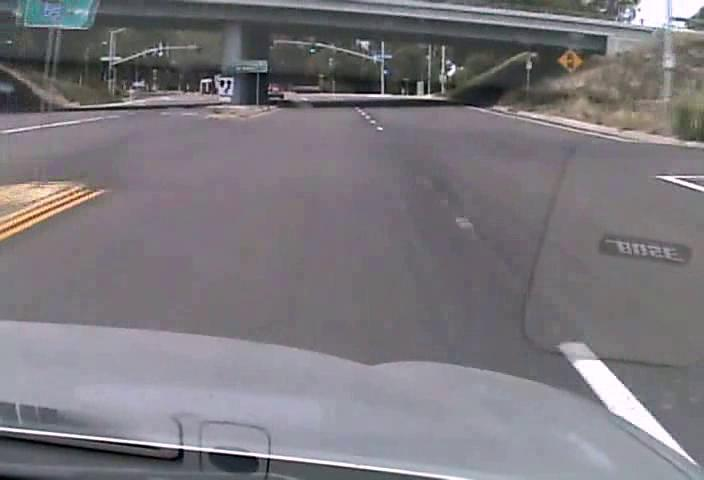signalAhead: (556, 47, 583, 73)
